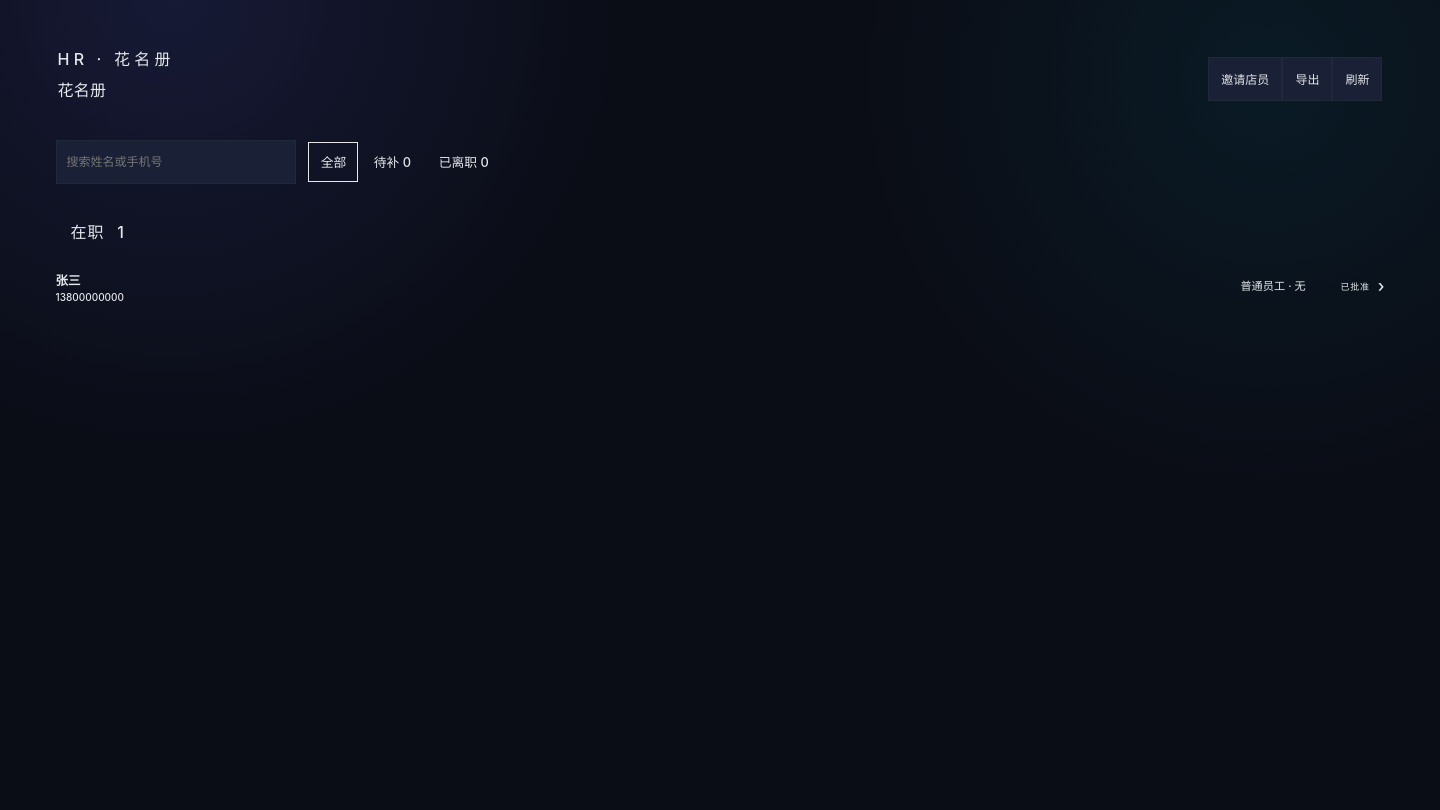
Test case: 花名册 · 管理权限（抽屉） › 可勾的只有员工端真正生效的六项；「卫生权限」只剩只读标签，没有下拉
The width and height of the screenshot is (1440, 810).
Click the button with class "roster-row" at (90, 297), box [42,254,1398,318]
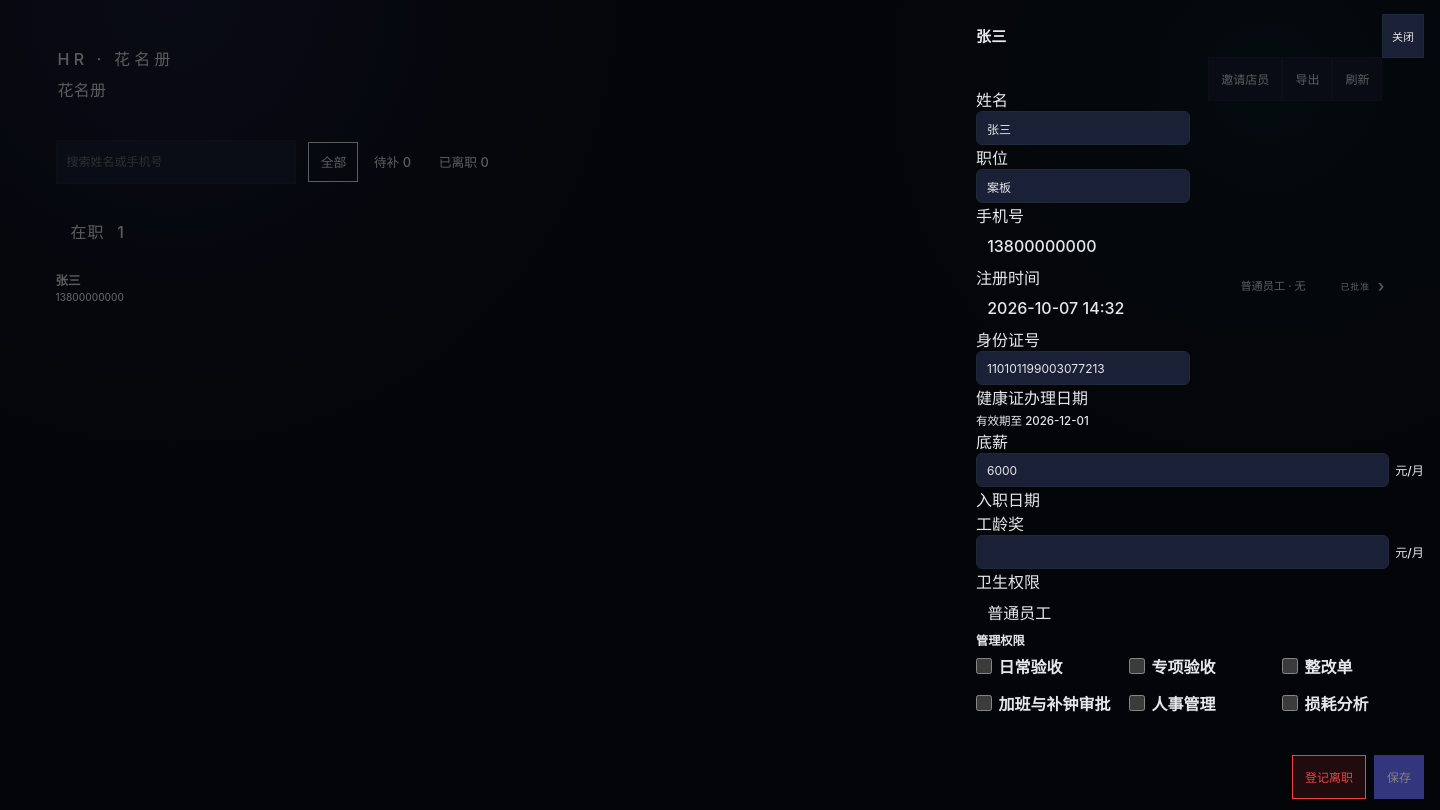
Expected: the elements with class "roster-cap" read "日常验收", "专项验收", "整改单", "加班与补钟审批", "人事管理", "损耗分析", in this order, [976,657,1062,677]; [1129,657,1216,677]; [1282,657,1352,677]; [976,694,1110,714]; [1129,694,1216,714]; [1282,694,1368,714]
Expected: the number of checkboxes is 6, [976,658,992,674]; [1129,658,1145,674]; [1282,658,1298,674]; [976,695,992,711]; [1129,695,1145,711]; [1282,695,1298,711]
Expected: the text "卫生权限" is shown, [976,569,1040,593]
